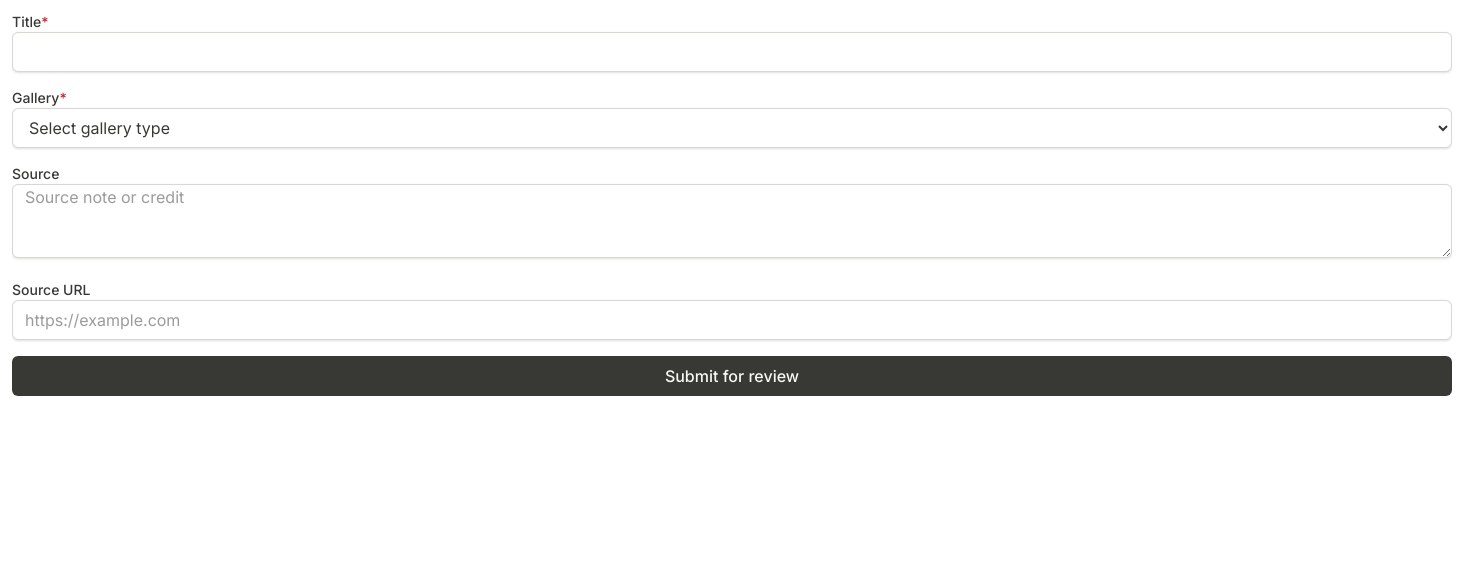
Test case: UploadForm validation matrix › requires a title and a gallery kind before submitting
What coordinates should you click on to do the following:
click the button "Submit for review"
I would click on:
 (732, 376)
Its box is x1=12 y1=356 x2=1452 y2=396.
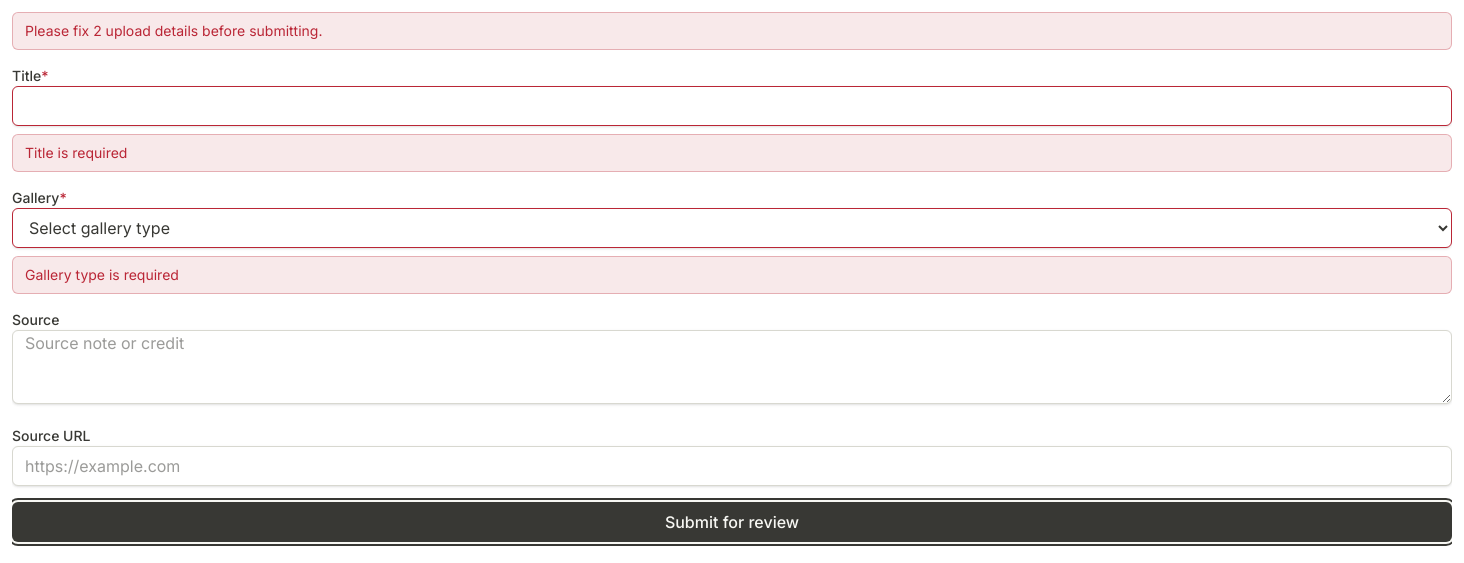
Expected: the text "Title is required" is shown, x1=25 y1=144 x2=127 y2=161
Expected: the text "Gallery type is required" is shown, x1=25 y1=266 x2=179 y2=283
